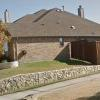Chimney: (72, 3, 93, 19)
